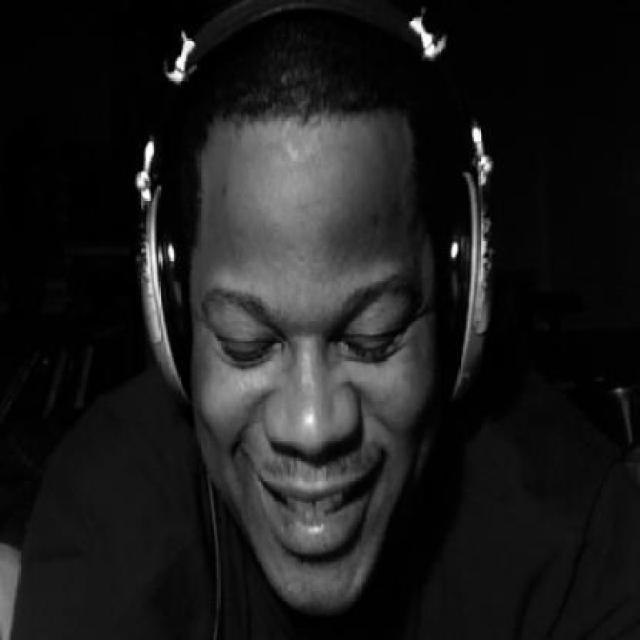earphone: (96, 9, 529, 409)
